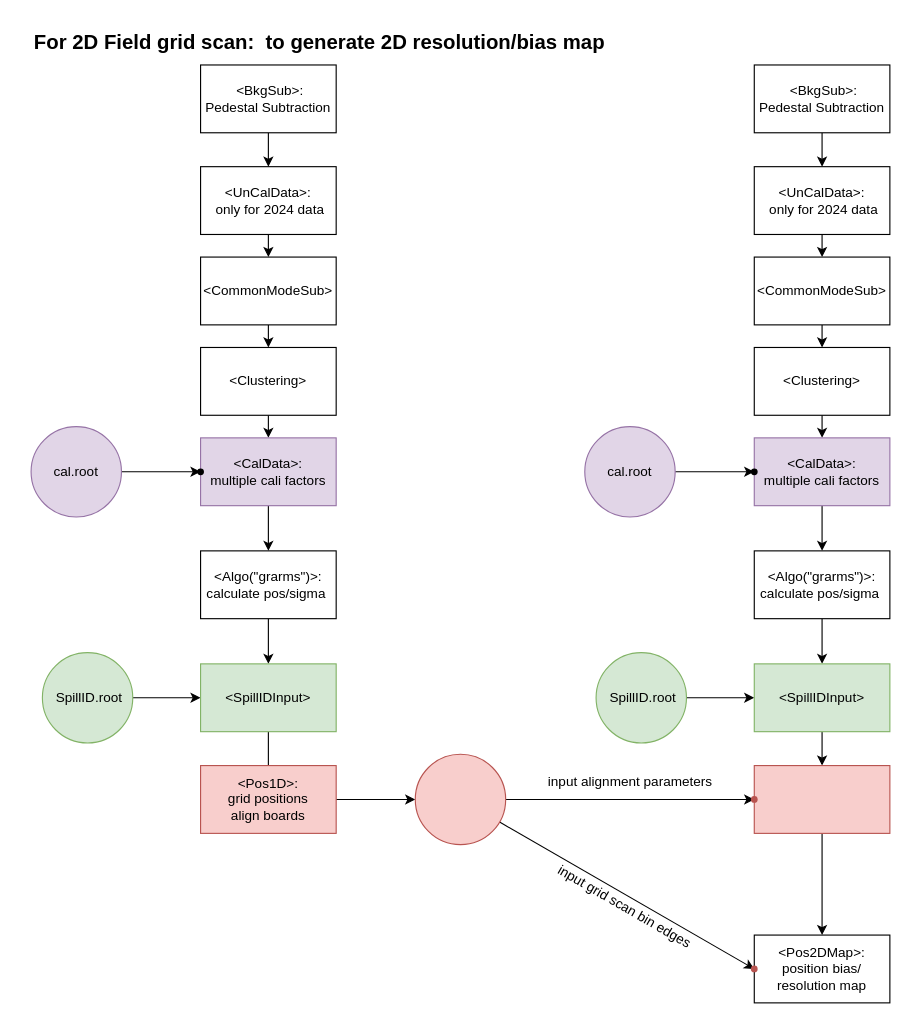
Image size: 910x1023. Some labels were removed from this diagram. The box of each missing label's shape, as (x1, y1, x2, y2) in pixels:
<PosAlign>: Align between planes: (753, 764, 890, 833)
output: Pos1D.root: (414, 753, 506, 845)
